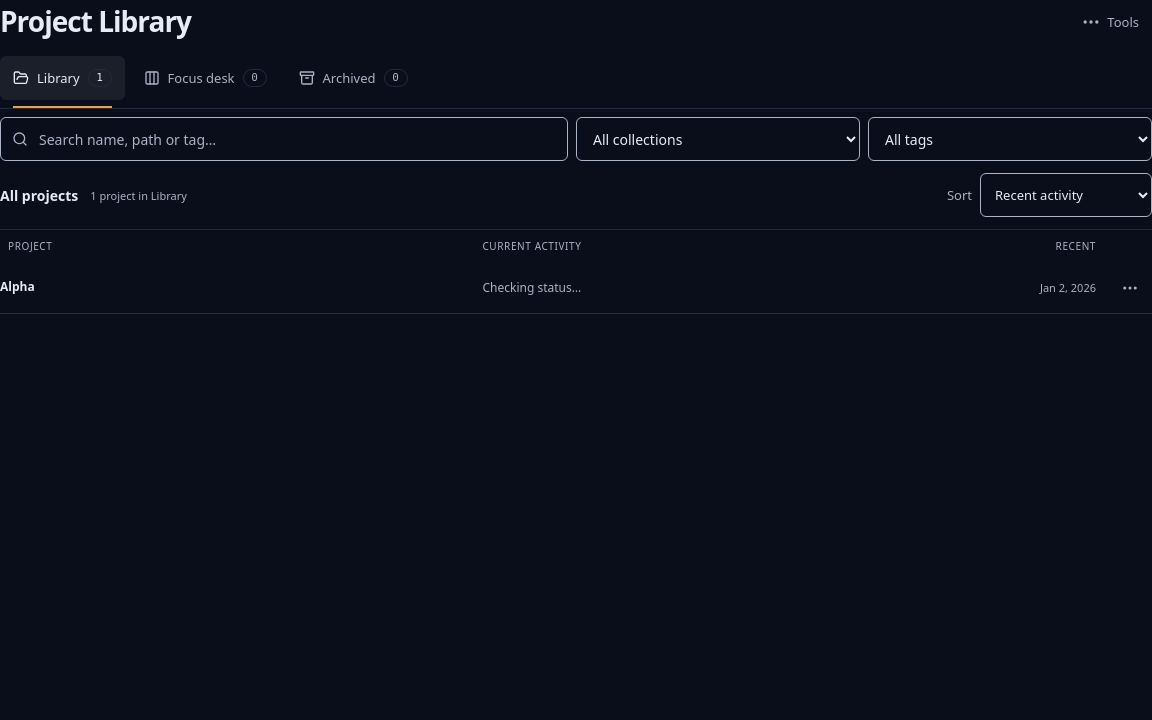
Contextual project authoring › keeps metadata in details while tags remain usable for filtering
Check: the button with aria-label "Open Alpha" is shown, box [0,266,462,310]
Check: the text "Customer portal" is not shown
Select "Clients" in the 1st dropdown named "Collection" at (718, 139), box [576,117,860,161]
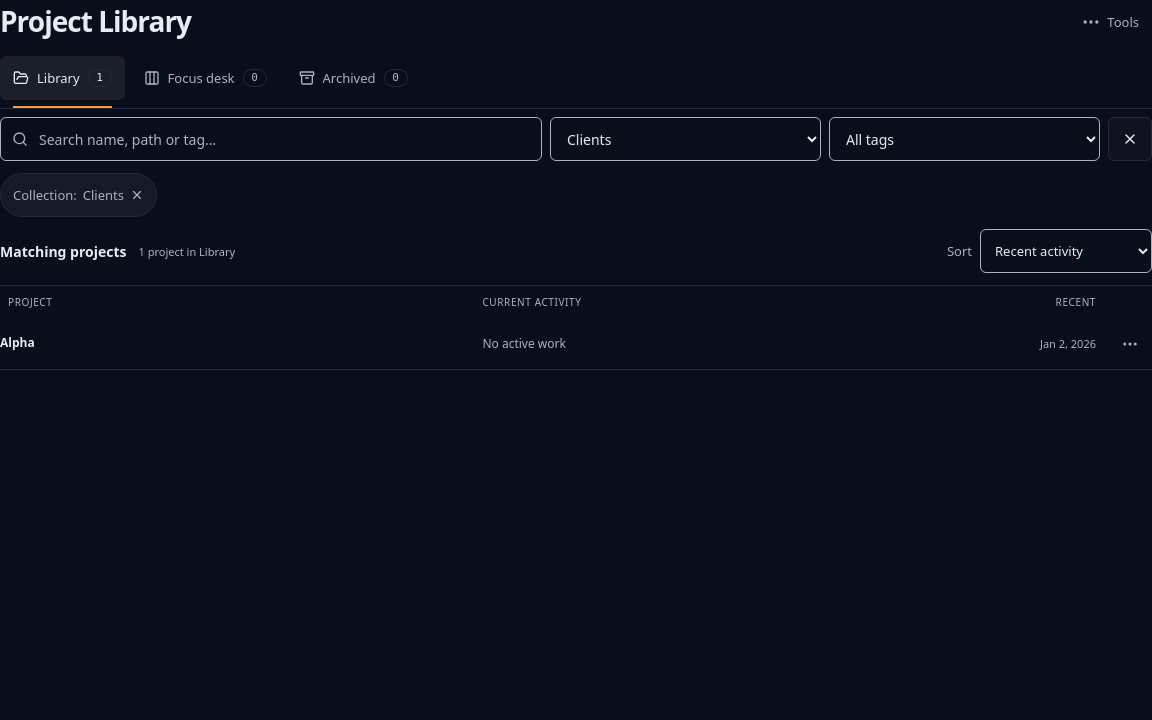
Select "api" in the 2nd dropdown named "Tag" at (964, 139), box [829,117,1100,161]
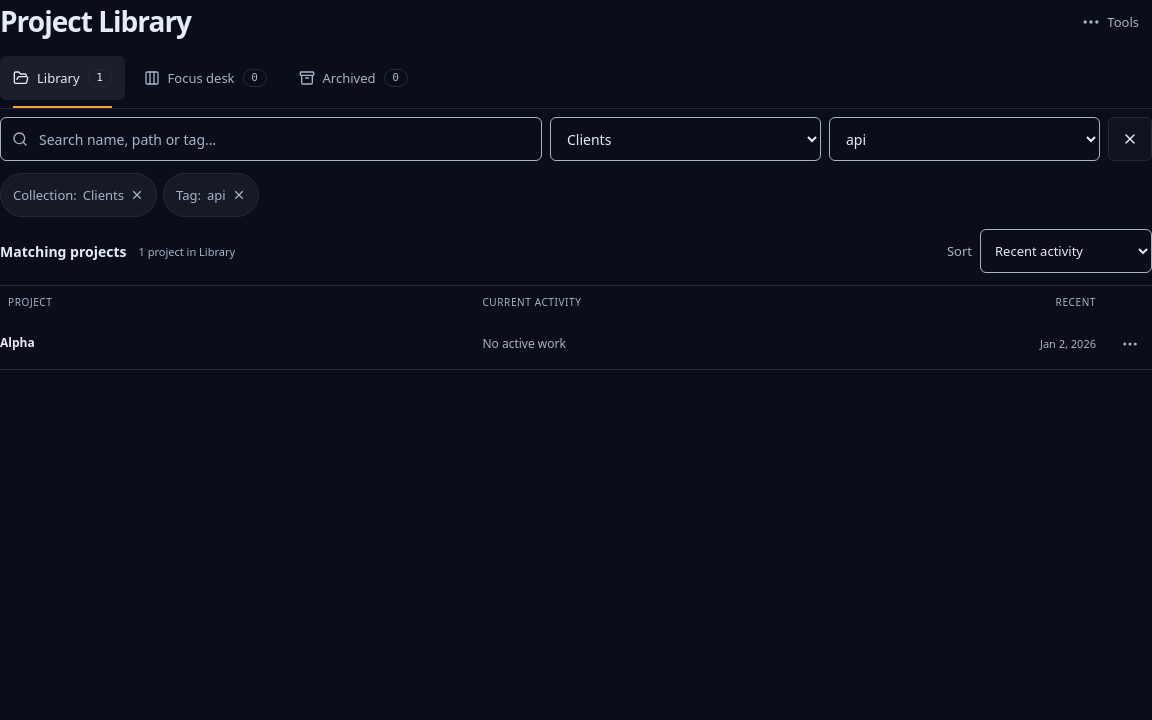
Click the button with aria-label "Remove tag filter api" at (211, 195), box [163,173,259,217]
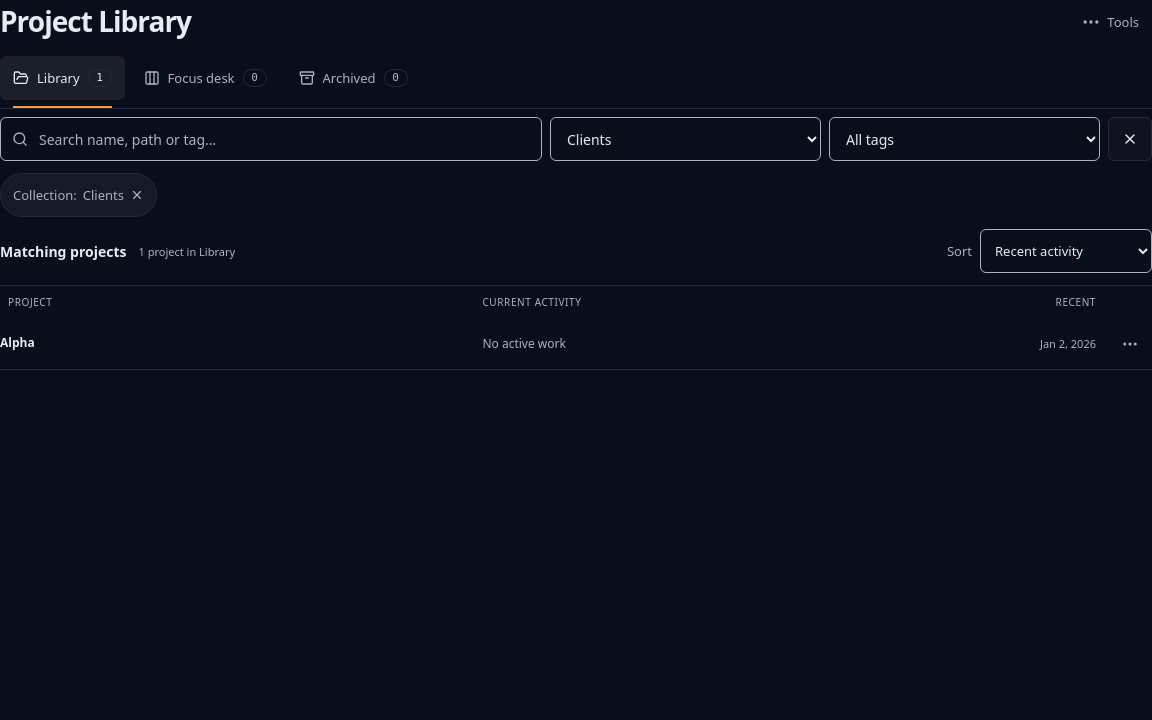
Click the button named "Details and organization for Alpha" at (1130, 344), box [1108,322,1151,366]
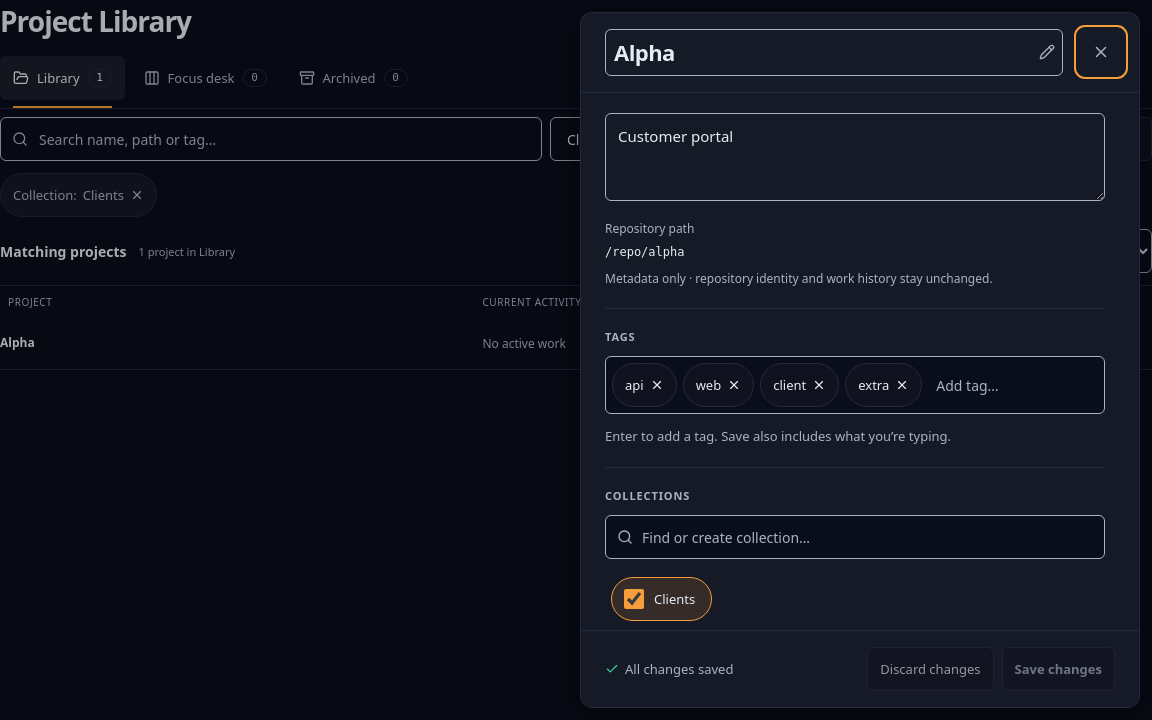
Check: the text box named "description" holds "Customer portal", box [605,113,1105,201]
Check: the text named "Repository path" reads "/repo/alpha", box [605,245,684,259]
